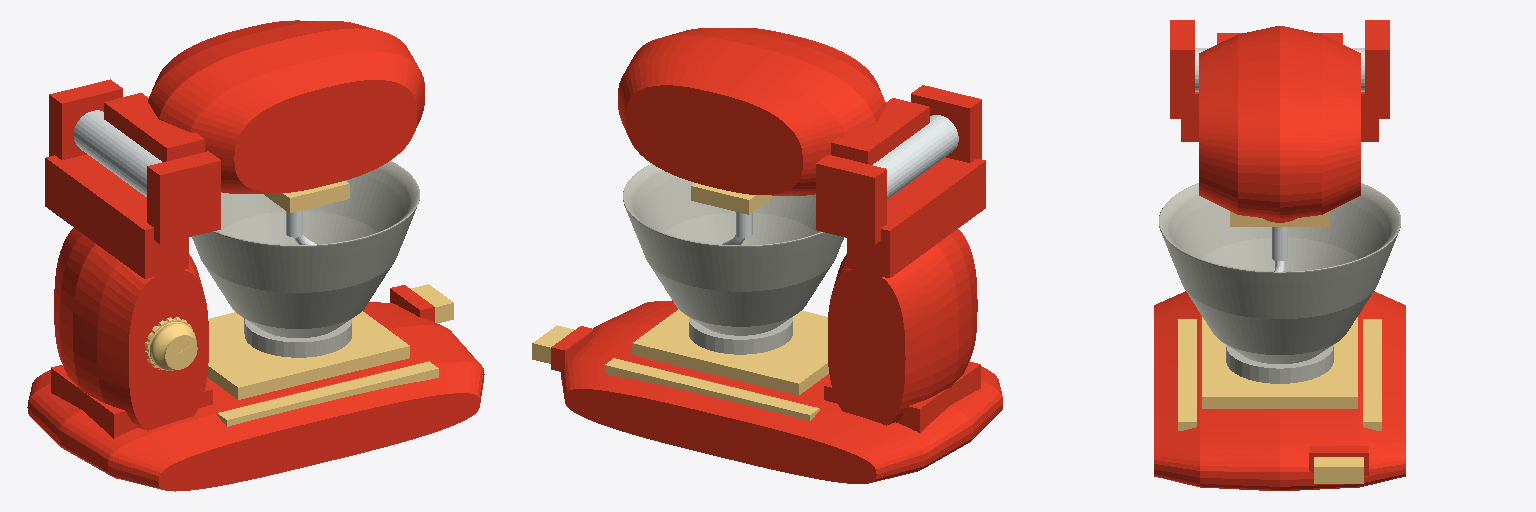
URDF robot description (cheerful_retro_stand_mixer):
<robot name="cheerful_retro_stand_mixer">
  <material name="sunny_enamel">
    <color rgba="0.96 0.27 0.18 1" />
    </material>
  <material name="warm_cream">
    <color rgba="1 0.86 0.55 1" />
    </material>
  <material name="brushed_steel">
    <color rgba="0.78 0.78 0.74 1" />
    </material>
  <material name="dark_rubber">
    <color rgba="0.05 0.045 0.04 1" />
    </material>
  <material name="polished_chrome">
    <color rgba="0.9 0.92 0.92 1" />
    </material>
  <link name="base">
    <visual name="base_plinth">
      <origin xyz="0.035 0 0.004" rpy="0 0 0" />
      <geometry>
        <mesh filename="assets/meshes/base_plinth.obj" />
        </geometry>
      <material name="sunny_enamel">
        <color rgba="0.96 0.27 0.18 1" />
        </material>
      </visual>
    <visual name="rear_column">
      <origin xyz="-0.135 0 0" rpy="0 0 0" />
      <geometry>
        <mesh filename="assets/meshes/rear_column.obj" />
        </geometry>
      <material name="sunny_enamel">
        <color rgba="0.96 0.27 0.18 1" />
        </material>
      </visual>
    <visual name="column_neck">
      <origin xyz="-0.135 0 0.075" rpy="0 0 0" />
      <geometry>
        <box size="0.135 0.15 0.038" />
        </geometry>
      <material name="sunny_enamel">
        <color rgba="0.96 0.27 0.18 1" />
        </material>
      </visual>
    <visual name="yoke_support">
      <origin xyz="-0.155 0 0.315" rpy="0 0 0" />
      <geometry>
        <box size="0.06 0.235 0.064" />
        </geometry>
      <material name="sunny_enamel">
        <color rgba="0.96 0.27 0.18 1" />
        </material>
      </visual>
    <visual name="hinge_cheek_0">
      <origin xyz="-0.13 -0.116 0.376" rpy="0 0 0" />
      <geometry>
        <box size="0.084 0.03 0.09" />
        </geometry>
      <material name="sunny_enamel">
        <color rgba="0.96 0.27 0.18 1" />
        </material>
      </visual>
    <visual name="hinge_cheek_1">
      <origin xyz="-0.13 0.116 0.376" rpy="0 0 0" />
      <geometry>
        <box size="0.084 0.03 0.09" />
        </geometry>
      <material name="sunny_enamel">
        <color rgba="0.96 0.27 0.18 1" />
        </material>
      </visual>
    <visual name="hinge_pin">
      <origin xyz="-0.13 0 0.376" rpy="-1.5708 0 0" />
      <geometry>
        <cylinder radius="0.018" length="0.232" />
        </geometry>
      <material name="polished_chrome">
        <color rgba="0.9 0.92 0.92 1" />
        </material>
      </visual>
    <visual name="slide_rail_0">
      <origin xyz="0.07 -0.11 0.069" rpy="0 0 0" />
      <geometry>
        <box size="0.29 0.023 0.012" />
        </geometry>
      <material name="warm_cream">
        <color rgba="1 0.86 0.55 1" />
        </material>
      </visual>
    <visual name="slide_rail_1">
      <origin xyz="0.07 0.11 0.069" rpy="0 0 0" />
      <geometry>
        <box size="0.29 0.023 0.012" />
        </geometry>
      <material name="warm_cream">
        <color rgba="1 0.86 0.55 1" />
        </material>
      </visual>
    <visual name="lock_socket">
      <origin xyz="0.289 0.07 0.058" rpy="0 0 0" />
      <geometry>
        <box size="0.02 0.072 0.03" />
        </geometry>
      <material name="sunny_enamel">
        <color rgba="0.96 0.27 0.18 1" />
        </material>
      </visual>
    <collision name="base_plinth">
      <origin xyz="0.035 0 0.004" rpy="0 0 0" />
      <geometry>
        <mesh filename="assets/meshes/base_plinth.obj" />
        </geometry>
      </collision>
    <collision name="rear_column">
      <origin xyz="-0.135 0 0" rpy="0 0 0" />
      <geometry>
        <mesh filename="assets/meshes/rear_column.obj" />
        </geometry>
      </collision>
    <collision name="column_neck">
      <origin xyz="-0.135 0 0.075" rpy="0 0 0" />
      <geometry>
        <box size="0.135 0.15 0.038" />
        </geometry>
      </collision>
    <collision name="yoke_support">
      <origin xyz="-0.155 0 0.315" rpy="0 0 0" />
      <geometry>
        <box size="0.06 0.235 0.064" />
        </geometry>
      </collision>
    <collision name="hinge_cheek_0">
      <origin xyz="-0.13 -0.116 0.376" rpy="0 0 0" />
      <geometry>
        <box size="0.084 0.03 0.09" />
        </geometry>
      </collision>
    <collision name="hinge_cheek_1">
      <origin xyz="-0.13 0.116 0.376" rpy="0 0 0" />
      <geometry>
        <box size="0.084 0.03 0.09" />
        </geometry>
      </collision>
    <collision name="hinge_pin">
      <origin xyz="-0.13 0 0.376" rpy="-1.5708 0 0" />
      <geometry>
        <cylinder radius="0.018" length="0.232" />
        </geometry>
      </collision>
    <collision name="slide_rail_0">
      <origin xyz="0.07 -0.11 0.069" rpy="0 0 0" />
      <geometry>
        <box size="0.29 0.023 0.012" />
        </geometry>
      </collision>
    <collision name="slide_rail_1">
      <origin xyz="0.07 0.11 0.069" rpy="0 0 0" />
      <geometry>
        <box size="0.29 0.023 0.012" />
        </geometry>
      </collision>
    <collision name="lock_socket">
      <origin xyz="0.289 0.07 0.058" rpy="0 0 0" />
      <geometry>
        <box size="0.02 0.072 0.03" />
        </geometry>
      </collision>
    </link>
  <link name="bowl_carriage">
    <visual name="carriage_plate">
      <origin xyz="0.085 0 0.008" rpy="0 0 0" />
      <geometry>
        <box size="0.235 0.185 0.016" />
        </geometry>
      <material name="warm_cream">
        <color rgba="1 0.86 0.55 1" />
        </material>
      </visual>
    <visual name="bowl_foot">
      <origin xyz="0.103 0 0.026" rpy="0 0 0" />
      <geometry>
        <cylinder radius="0.064" length="0.02" />
        </geometry>
      <material name="brushed_steel">
        <color rgba="0.78 0.78 0.74 1" />
        </material>
      </visual>
    <visual name="steel_bowl">
      <origin xyz="0.103 0 0.036" rpy="0 0 0" />
      <geometry>
        <mesh filename="assets/meshes/steel_bowl.obj" />
        </geometry>
      <material name="brushed_steel">
        <color rgba="0.78 0.78 0.74 1" />
        </material>
      </visual>
    <collision name="carriage_plate">
      <origin xyz="0.085 0 0.008" rpy="0 0 0" />
      <geometry>
        <box size="0.235 0.185 0.016" />
        </geometry>
      </collision>
    <collision name="bowl_foot">
      <origin xyz="0.103 0 0.026" rpy="0 0 0" />
      <geometry>
        <cylinder radius="0.064" length="0.02" />
        </geometry>
      </collision>
    <collision name="steel_bowl">
      <origin xyz="0.103 0 0.036" rpy="0 0 0" />
      <geometry>
        <mesh filename="assets/meshes/steel_bowl.obj" />
        </geometry>
      </collision>
    </link>
  <link name="head">
    <visual name="rounded_housing">
      <origin xyz="0.205 0 0.008" rpy="0 0 0" />
      <geometry>
        <mesh filename="assets/meshes/rounded_head_housing.obj" />
        </geometry>
      <material name="sunny_enamel">
        <color rgba="0.96 0.27 0.18 1" />
        </material>
      </visual>
    <visual name="short_nose">
      <origin xyz="0.23 0 -0.026" rpy="0 1.5708 0" />
      <geometry>
        <cylinder radius="0.04" length="0.118" />
        </geometry>
      <material name="sunny_enamel">
        <color rgba="0.96 0.27 0.18 1" />
        </material>
      </visual>
    <visual name="head_hinge_barrel">
      <origin xyz="0 0 0" rpy="-1.5708 0 0" />
      <geometry>
        <cylinder radius="0.026" length="0.205" />
        </geometry>
      <material name="polished_chrome">
        <color rgba="0.9 0.92 0.92 1" />
        </material>
      </visual>
    <visual name="hinge_boss">
      <origin xyz="0.026 0 0.036" rpy="0 0 0" />
      <geometry>
        <box size="0.052 0.15 0.024" />
        </geometry>
      <material name="sunny_enamel">
        <color rgba="0.96 0.27 0.18 1" />
        </material>
      </visual>
    <visual name="nose_trim">
      <origin xyz="0.218 0 -0.075" rpy="0 0 0" />
      <geometry>
        <box size="0.082 0.118 0.02" />
        </geometry>
      <material name="warm_cream">
        <color rgba="1 0.86 0.55 1" />
        </material>
      </visual>
    <collision name="rounded_housing">
      <origin xyz="0.205 0 0.008" rpy="0 0 0" />
      <geometry>
        <mesh filename="assets/meshes/rounded_head_housing.obj" />
        </geometry>
      </collision>
    <collision name="short_nose">
      <origin xyz="0.23 0 -0.026" rpy="0 1.5708 0" />
      <geometry>
        <cylinder radius="0.04" length="0.118" />
        </geometry>
      </collision>
    <collision name="head_hinge_barrel">
      <origin xyz="0 0 0" rpy="-1.5708 0 0" />
      <geometry>
        <cylinder radius="0.026" length="0.205" />
        </geometry>
      </collision>
    <collision name="hinge_boss">
      <origin xyz="0.026 0 0.036" rpy="0 0 0" />
      <geometry>
        <box size="0.052 0.15 0.024" />
        </geometry>
      </collision>
    <collision name="nose_trim">
      <origin xyz="0.218 0 -0.075" rpy="0 0 0" />
      <geometry>
        <box size="0.082 0.118 0.02" />
        </geometry>
      </collision>
    </link>
  <link name="tool">
    <visual name="tool_shaft">
      <origin xyz="0 0 -0.03" rpy="0 0 0" />
      <geometry>
        <cylinder radius="0.01" length="0.06" />
        </geometry>
      <material name="polished_chrome">
        <color rgba="0.9 0.92 0.92 1" />
        </material>
      </visual>
    <visual name="dough_hook">
      <geometry>
        <mesh filename="assets/meshes/dough_hook.obj" />
        </geometry>
      <material name="polished_chrome">
        <color rgba="0.9 0.92 0.92 1" />
        </material>
      </visual>
    <collision name="tool_shaft">
      <origin xyz="0 0 -0.03" rpy="0 0 0" />
      <geometry>
        <cylinder radius="0.01" length="0.06" />
        </geometry>
      </collision>
    <collision name="dough_hook">
      <geometry>
        <mesh filename="assets/meshes/dough_hook.obj" />
        </geometry>
      </collision>
    </link>
  <link name="speed_control">
    <visual name="speed_knob">
      <origin xyz="0 0 0" rpy="1.5708 0 0" />
      <geometry>
        <mesh filename="assets/meshes/speed_control_knob.obj" />
        </geometry>
      <material name="warm_cream">
        <color rgba="1 0.86 0.55 1" />
        </material>
      </visual>
    <collision name="speed_knob">
      <origin xyz="0 0 0" rpy="1.5708 0 0" />
      <geometry>
        <mesh filename="assets/meshes/speed_control_knob.obj" />
        </geometry>
      </collision>
    </link>
  <link name="head_lock">
    <visual name="lock_tab">
      <origin xyz="0.015 0 0" rpy="0 0 0" />
      <geometry>
        <box size="0.03 0.06 0.022" />
        </geometry>
      <material name="warm_cream">
        <color rgba="1 0.86 0.55 1" />
        </material>
      </visual>
    <collision name="lock_tab">
      <origin xyz="0.015 0 0" rpy="0 0 0" />
      <geometry>
        <box size="0.03 0.06 0.022" />
        </geometry>
      </collision>
    </link>
  <joint name="base_to_bowl_carriage" type="prismatic">
    <origin xyz="-0.01 0 0.082" rpy="0 0 0" />
    <parent link="base" />
    <child link="bowl_carriage" />
    <axis xyz="1 0 0" />
    <limit effort="45" velocity="0.2" lower="0" upper="0.055" />
    </joint>
  <joint name="base_to_head" type="revolute">
    <origin xyz="-0.13 0 0.376" rpy="0 0 0" />
    <parent link="base" />
    <child link="head" />
    <axis xyz="0 -1 0" />
    <limit effort="18" velocity="1.5" lower="0" upper="0.78" />
    </joint>
  <joint name="head_to_tool" type="continuous">
    <origin xyz="0.218 0 -0.085" rpy="0 0 0" />
    <parent link="head" />
    <child link="tool" />
    <axis xyz="0 0 1" />
    <limit effort="4" velocity="18" />
    </joint>
  <joint name="base_to_speed_control" type="revolute">
    <origin xyz="-0.135 -0.088 0.176" rpy="0 0 0" />
    <parent link="base" />
    <child link="speed_control" />
    <axis xyz="0 -1 0" />
    <limit effort="0.8" velocity="4" lower="-0.75" upper="0.75" />
    </joint>
  <joint name="base_to_head_lock" type="prismatic">
    <origin xyz="0.299 0.07 0.058" rpy="0 0 0" />
    <parent link="base" />
    <child link="head_lock" />
    <axis xyz="1 0 0" />
    <limit effort="8" velocity="0.08" lower="0" upper="0.018" />
    </joint>
  </robot>

--- Render facts (derived) ---
3 views of the same robot in one strip: view 1: azimuth 30°, elevation 25°; view 2: azimuth 150°, elevation 25°; view 3: azimuth 270°, elevation 25° (orthographic).
Model cheerful_retro_stand_mixer with 6 links and 5 joints (2 revolute, 1 continuous, 2 prismatic), rooted at base, posed every joint at zero.
Links seen in each view (by area): view 1: base, head, bowl_carriage, speed_control, head_lock, tool; view 2: base, head, bowl_carriage, head_lock, tool; view 3: bowl_carriage, base, head, head_lock, tool.
Boxes of the visible links, x1,y1,x2,y2 form: base: [27, 79, 484, 491]; head: [74, 20, 424, 213]; bowl_carriage: [192, 161, 419, 399]; speed_control: [145, 317, 197, 370]; head_lock: [411, 284, 453, 323]; tool: [286, 211, 316, 244]; base: [551, 85, 1002, 483]; head: [618, 28, 958, 214]; bowl_carriage: [623, 164, 843, 395]; head_lock: [532, 325, 573, 363]; tool: [722, 212, 752, 244]; bowl_carriage: [1159, 183, 1400, 408]; base: [1154, 20, 1405, 490]; head: [1195, 26, 1364, 226]; head_lock: [1314, 457, 1363, 483]; tool: [1272, 227, 1287, 271].
Bounding box of the posed robot: 0.564 × 0.3 × 0.488 m (x, y, z).
Meshes: 6 distinct files referenced, 6 mesh visuals loaded (6 OBJ).
